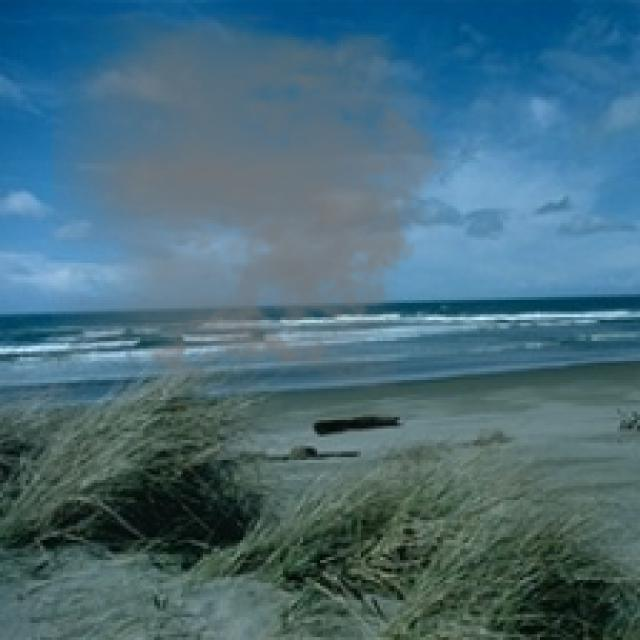smoke: (51, 9, 466, 392)
